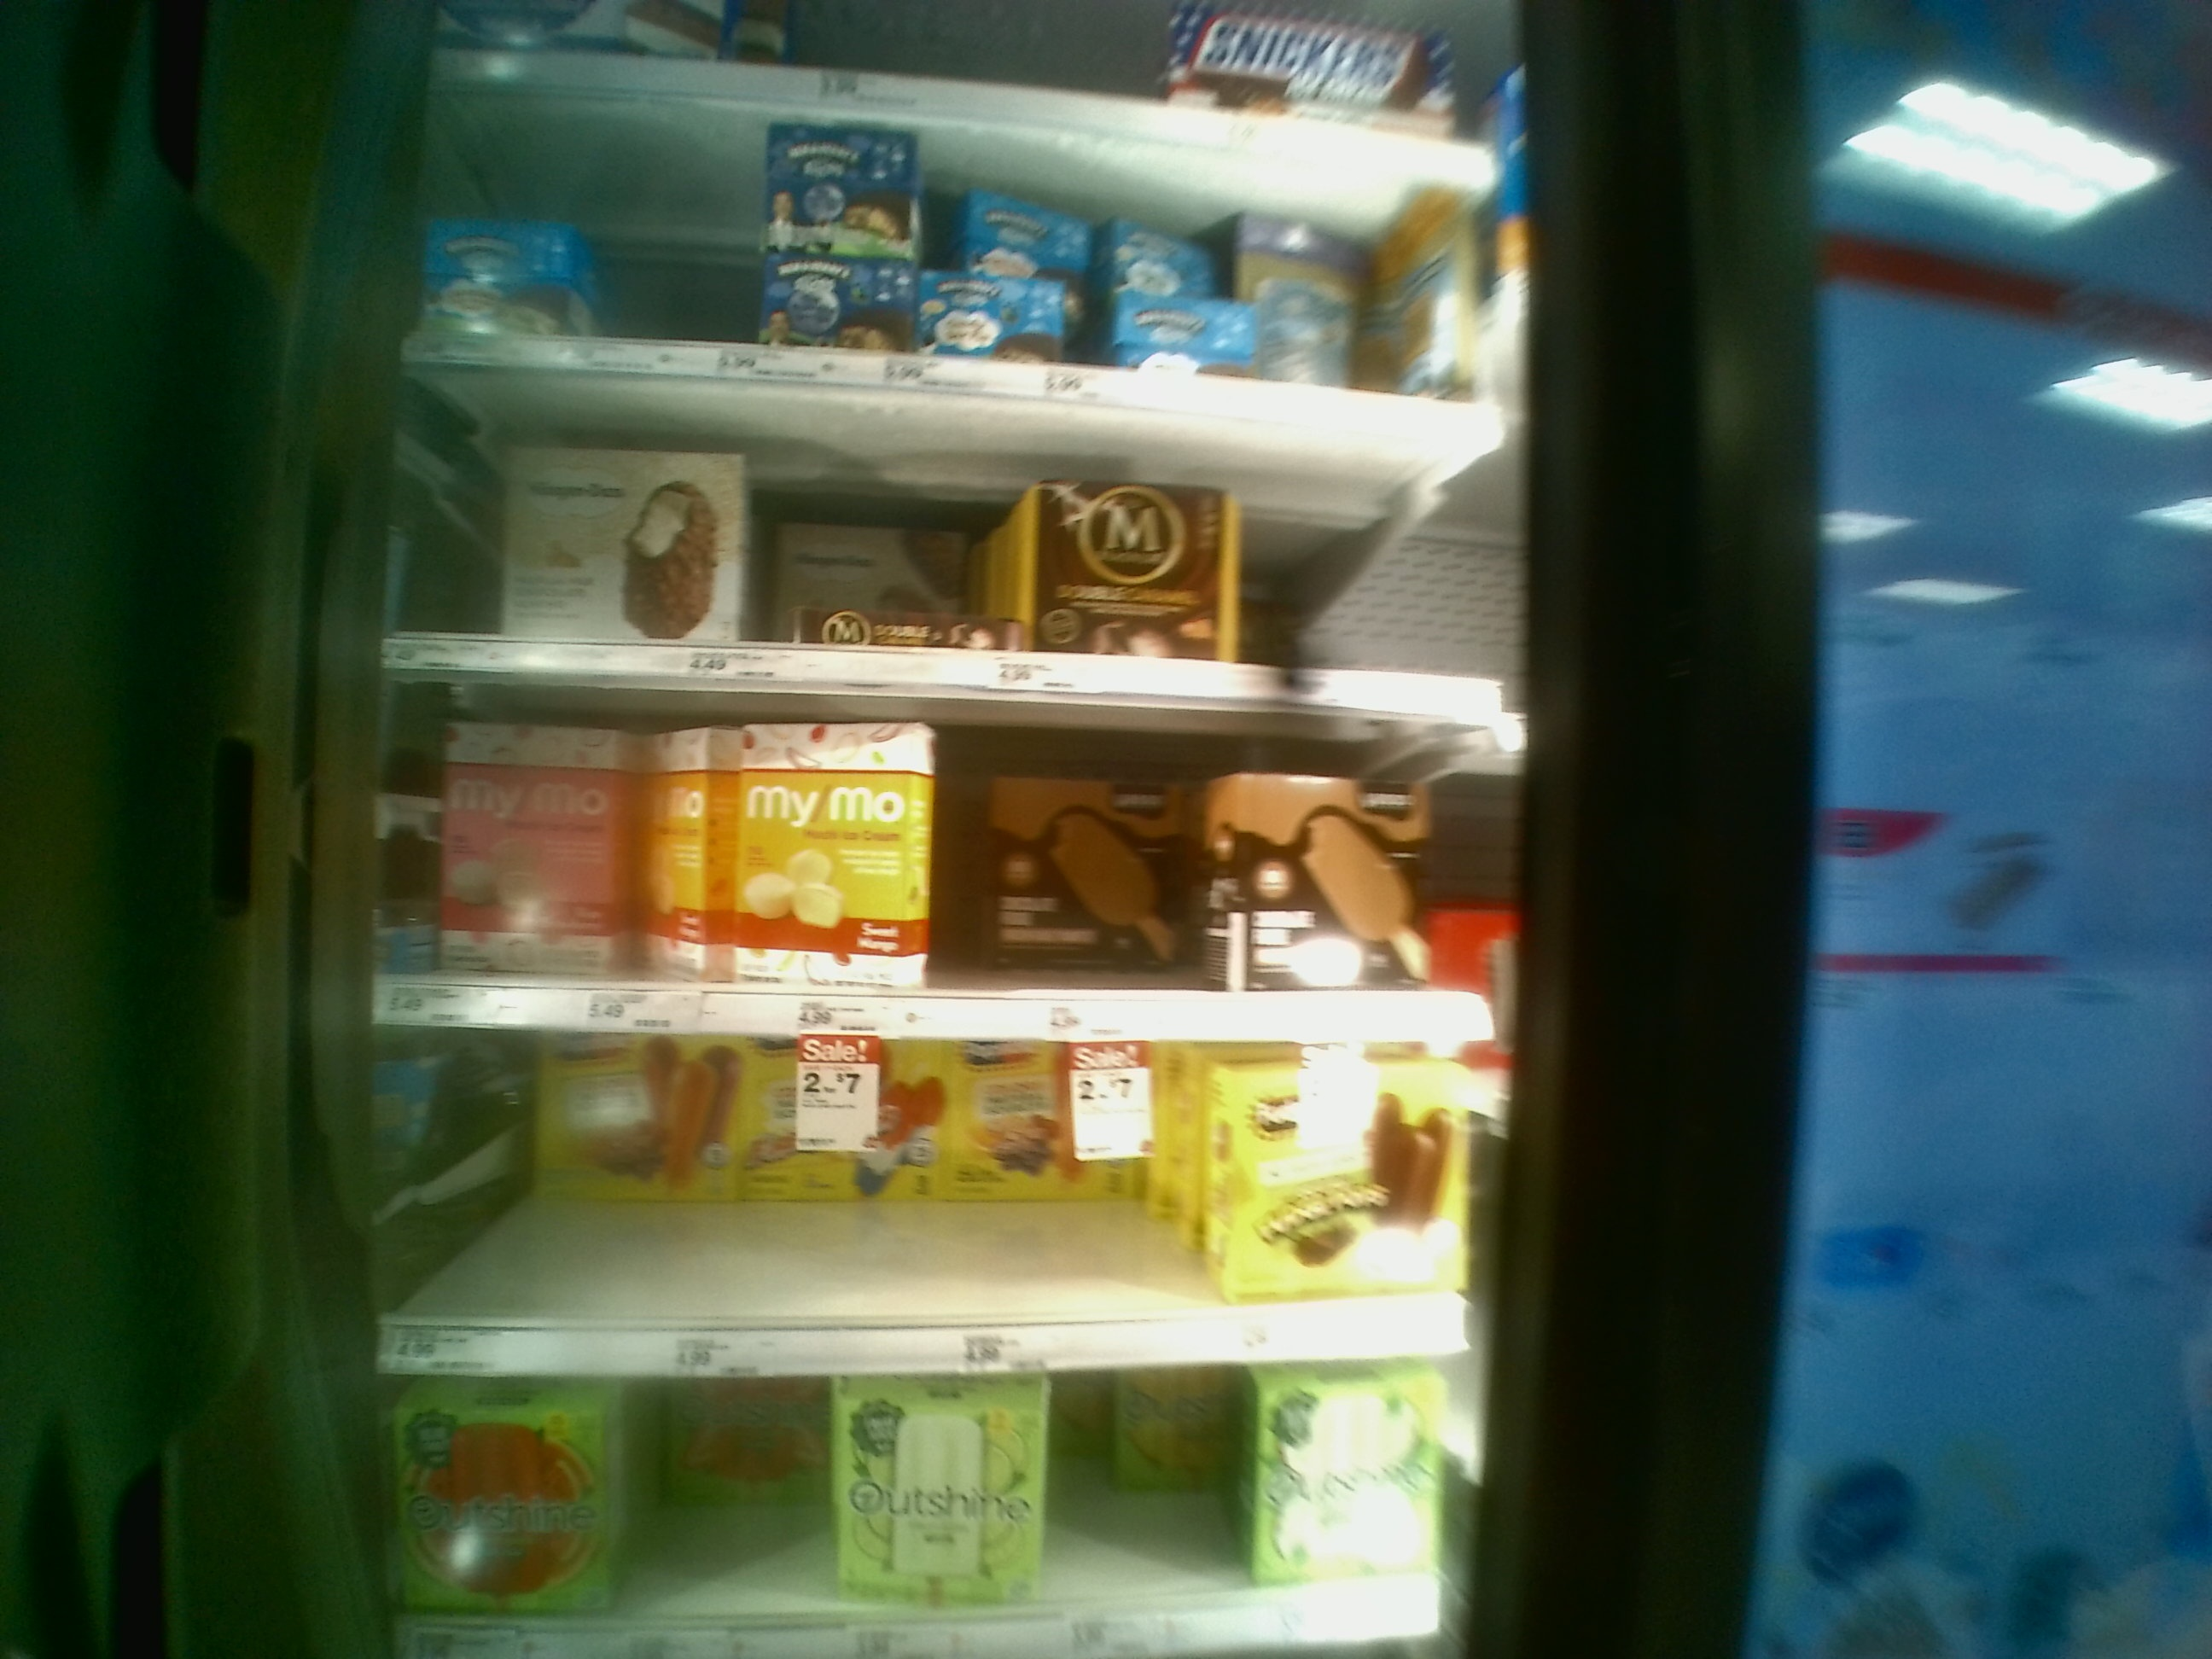ice-cream-shelf: (380, 671, 1517, 1032), (374, 1026, 1494, 1368), (371, 1373, 1489, 1652)
